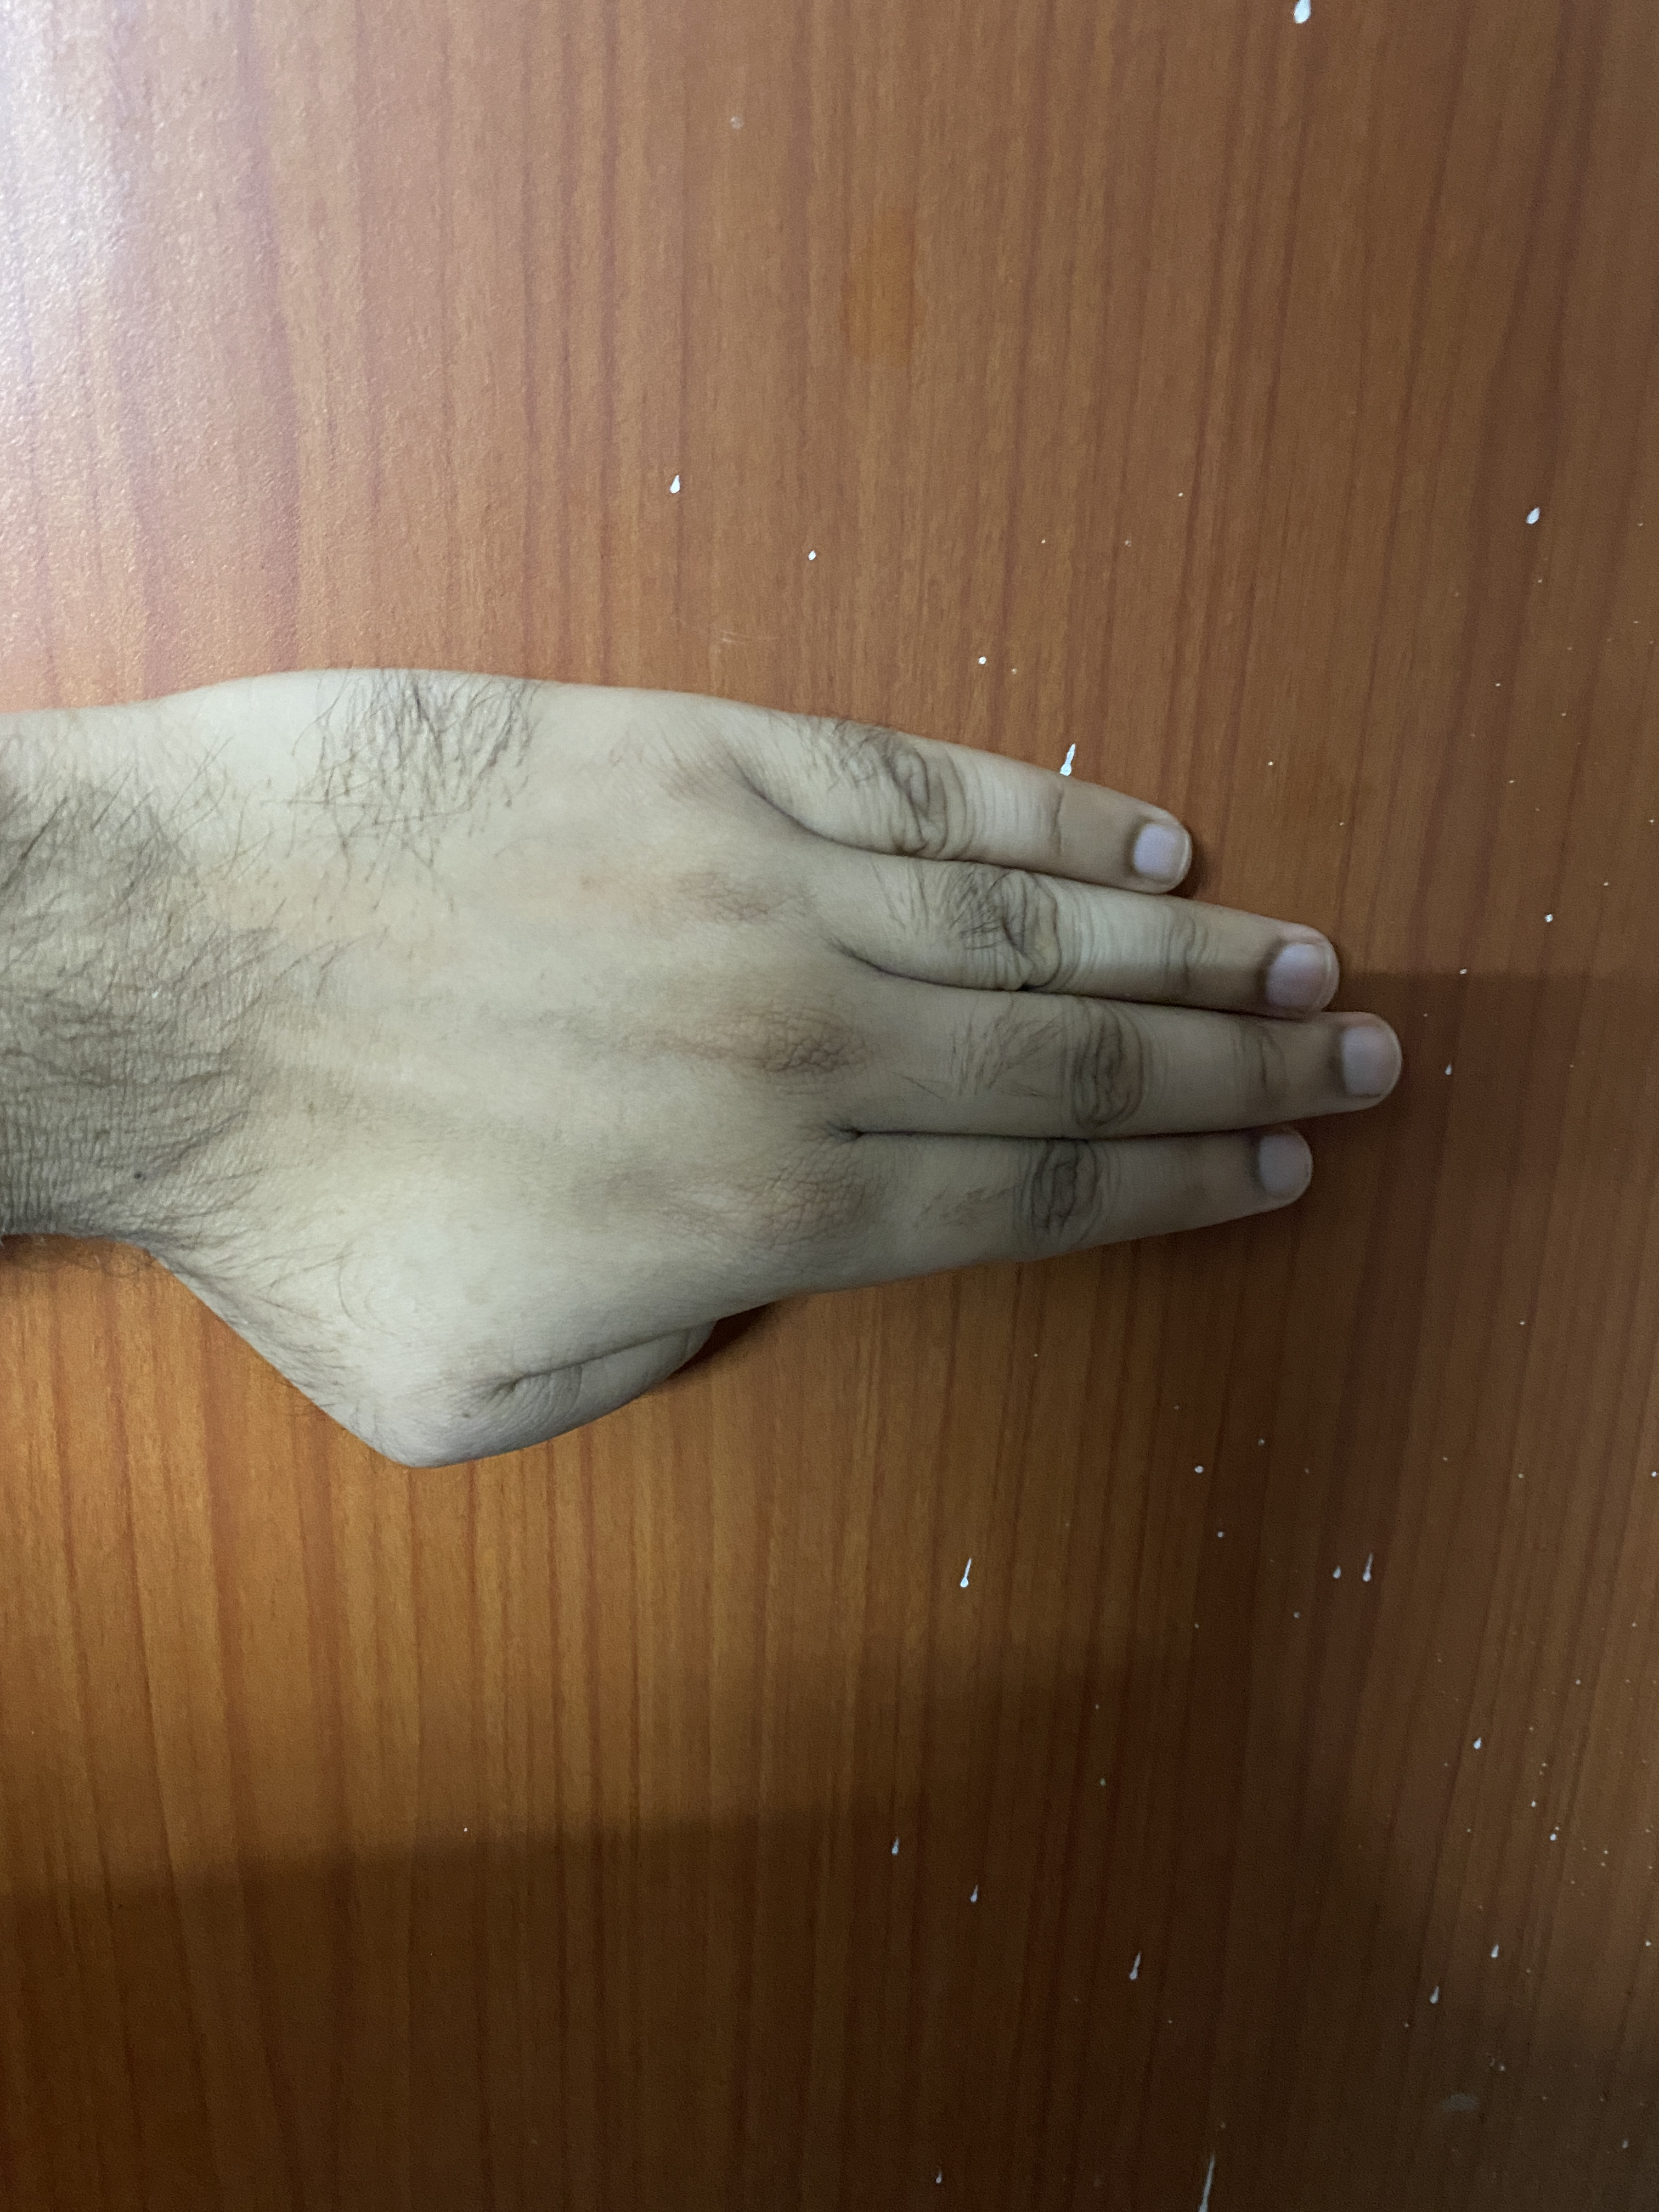left: (7, 603, 1452, 1505)
